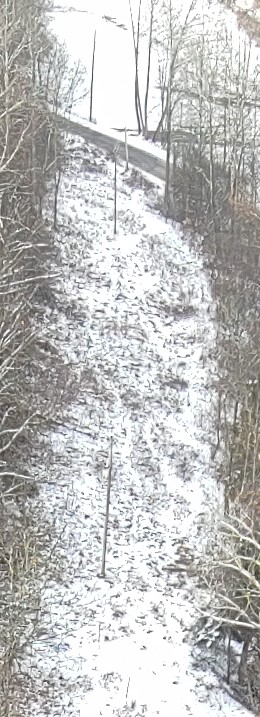pole: (78, 397, 151, 593), (77, 22, 135, 136), (95, 138, 152, 252)
